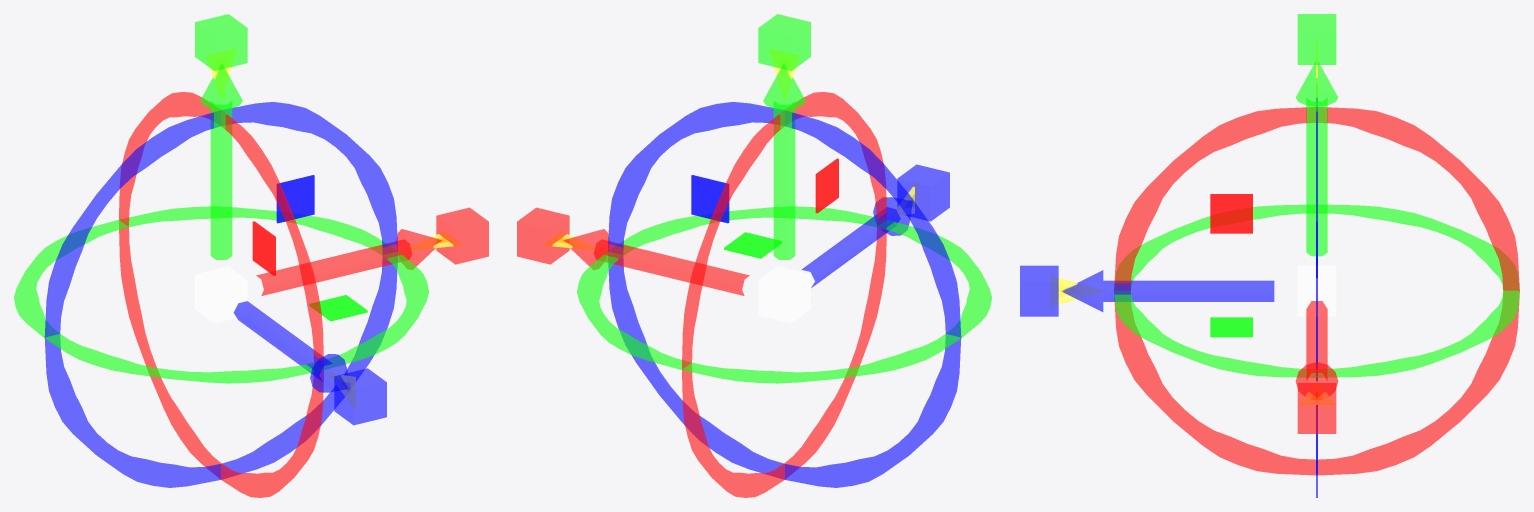
Rendered from TransformGizmo.glb.
3 renders of one model, left to right at view 1: azimuth 30°, elevation 25°; view 2: azimuth 150°, elevation 25°; view 3: azimuth 270°, elevation 25°, orthographic.
Parts seen in each view (by area): view 1: RotateZAxisDisk, RotateXAxisDisk, RotateYAxisDisk, TranslateYAxis, TranslateXAxis, TranslateZAxis, ScaleYAxis, ScaleZAxis, ScaleUniformHandle, ScaleXAxis, TranslateXYPlane, ScaleXYPlane (+5 smaller); view 2: RotateZAxisDisk, RotateXAxisDisk, RotateYAxisDisk, TranslateYAxis, TranslateXAxis, TranslateZAxis, ScaleYAxis, ScaleUniformHandle, ScaleXAxis, ScaleZAxis, TranslateXYPlane, ScaleXYPlane (+5 smaller); view 3: RotateXAxisDisk, RotateYAxisDisk, TranslateZAxis, TranslateYAxis, TranslateXAxis, ScaleXAxis, ScaleYAxis, ScaleZAxis, ScaleUniformHandle, TranslateYZPlane, ScaleYZPlane, TranslateXZPlane (+3 smaller).
Part boxes in pixels (x1=…): RotateZAxisDisk: x1=44, y1=102, x2=397, y2=487; RotateXAxisDisk: x1=119, y1=92, x2=323, y2=497; RotateYAxisDisk: x1=14, y1=206, x2=428, y2=383; TranslateYAxis: x1=200, y1=65, x2=242, y2=259; TranslateXAxis: x1=256, y1=229, x2=442, y2=295; TranslateZAxis: x1=234, y1=301, x2=347, y2=392; ScaleYAxis: x1=195, y1=14, x2=247, y2=70; ScaleZAxis: x1=334, y1=368, x2=386, y2=424; ScaleUniformHandle: x1=195, y1=266, x2=247, y2=323; ScaleXAxis: x1=436, y1=207, x2=488, y2=264; TranslateXYPlane: x1=276, y1=175, x2=314, y2=223; ScaleXYPlane: x1=277, y1=175, x2=314, y2=222; RotateZAxisDisk: x1=608, y1=102, x2=961, y2=487; RotateXAxisDisk: x1=682, y1=92, x2=886, y2=497; RotateYAxisDisk: x1=577, y1=206, x2=991, y2=383; TranslateYAxis: x1=763, y1=65, x2=805, y2=259; TranslateXAxis: x1=563, y1=229, x2=749, y2=295; TranslateZAxis: x1=802, y1=197, x2=912, y2=287; ScaleYAxis: x1=758, y1=14, x2=810, y2=70; ScaleUniformHandle: x1=758, y1=266, x2=810, y2=323; ScaleXAxis: x1=517, y1=207, x2=569, y2=264; ScaleZAxis: x1=897, y1=164, x2=949, y2=221; TranslateXYPlane: x1=691, y1=175, x2=729, y2=223; ScaleXYPlane: x1=691, y1=175, x2=728, y2=222; RotateXAxisDisk: x1=1114, y1=107, x2=1519, y2=475; RotateYAxisDisk: x1=1114, y1=204, x2=1519, y2=377; TranslateZAxis: x1=1062, y1=270, x2=1274, y2=311; TranslateYAxis: x1=1296, y1=62, x2=1337, y2=256; TranslateXAxis: x1=1295, y1=301, x2=1338, y2=397; ScaleXAxis: x1=1297, y1=383, x2=1336, y2=433; ScaleYAxis: x1=1297, y1=14, x2=1336, y2=64; ScaleZAxis: x1=1020, y1=265, x2=1058, y2=316; ScaleUniformHandle: x1=1297, y1=265, x2=1336, y2=316; TranslateYZPlane: x1=1210, y1=194, x2=1252, y2=233; ScaleYZPlane: x1=1210, y1=194, x2=1252, y2=233; TranslateXZPlane: x1=1210, y1=317, x2=1252, y2=337.
Size of the model in its own units: 2.34 by 2.34 by 2.34.
